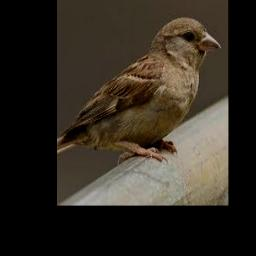Sparrow: (57, 16, 221, 163)
